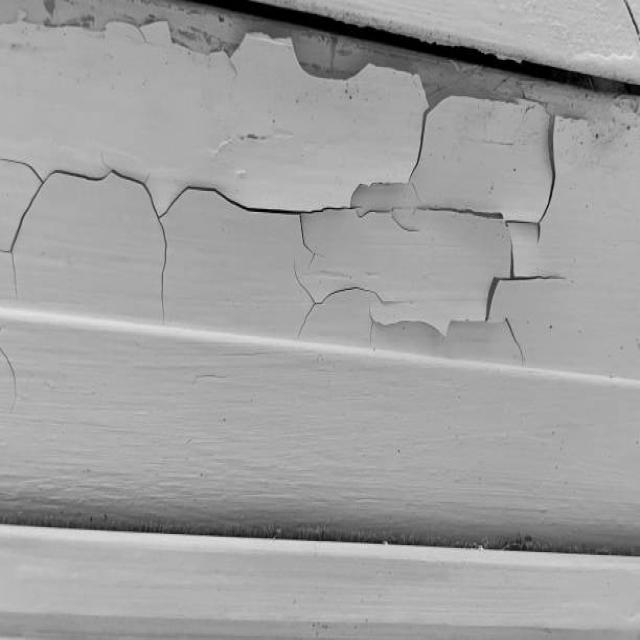peeling paint: (0, 0, 640, 395)
